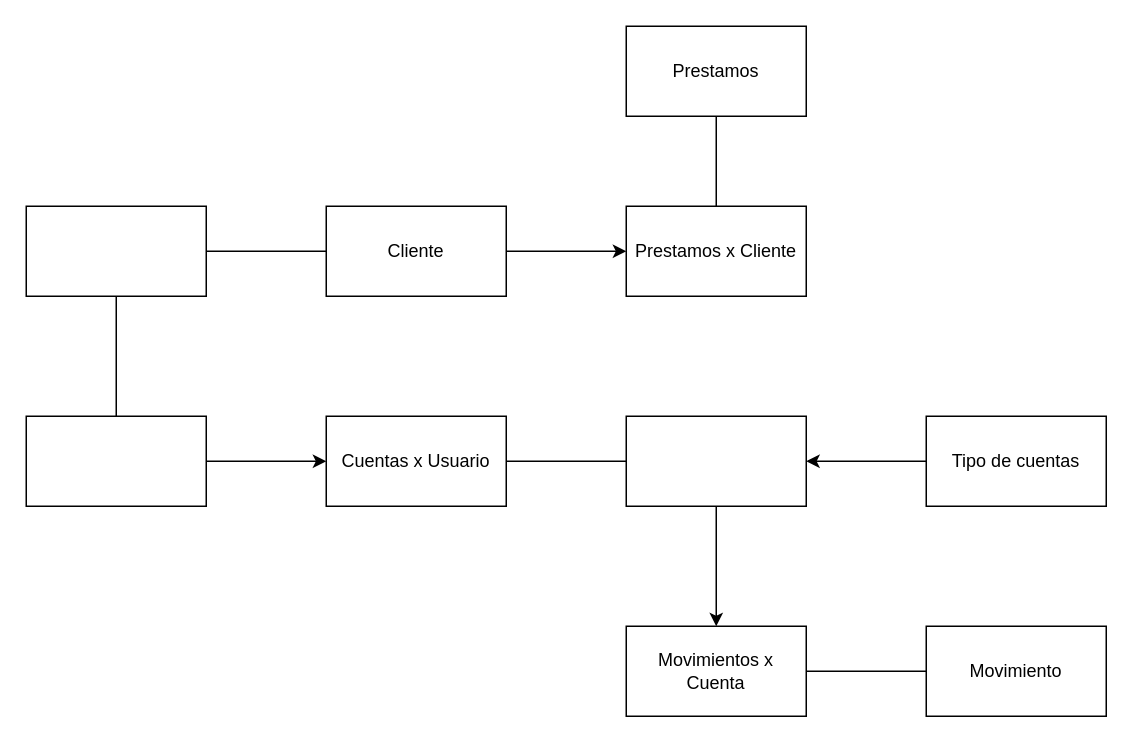
Some shapes in this 1133 by 743 pixel diagram are drawn without their labels. Here are the shapes that lost their labels. From the top down, the box of each, then its label:
(25, 205, 206, 296): Cliente x Usuario
(25, 415, 206, 506): Usuario
(625, 415, 806, 506): Cuenta
